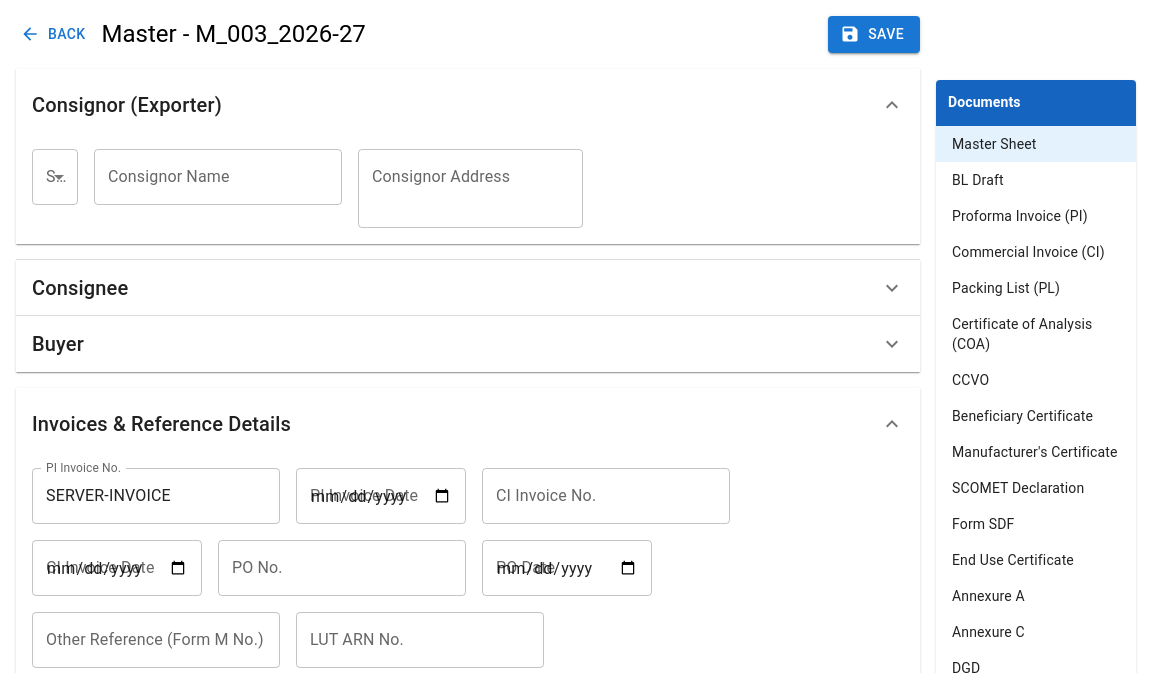
discarding root conflict removes stale restore action and draft
The image size is (1152, 673).
Step 1. Replace the text in the field showing "SERVER-INVOICE" with "LOCAL-INVOICE" → (156, 496), box [32,468,280,524]
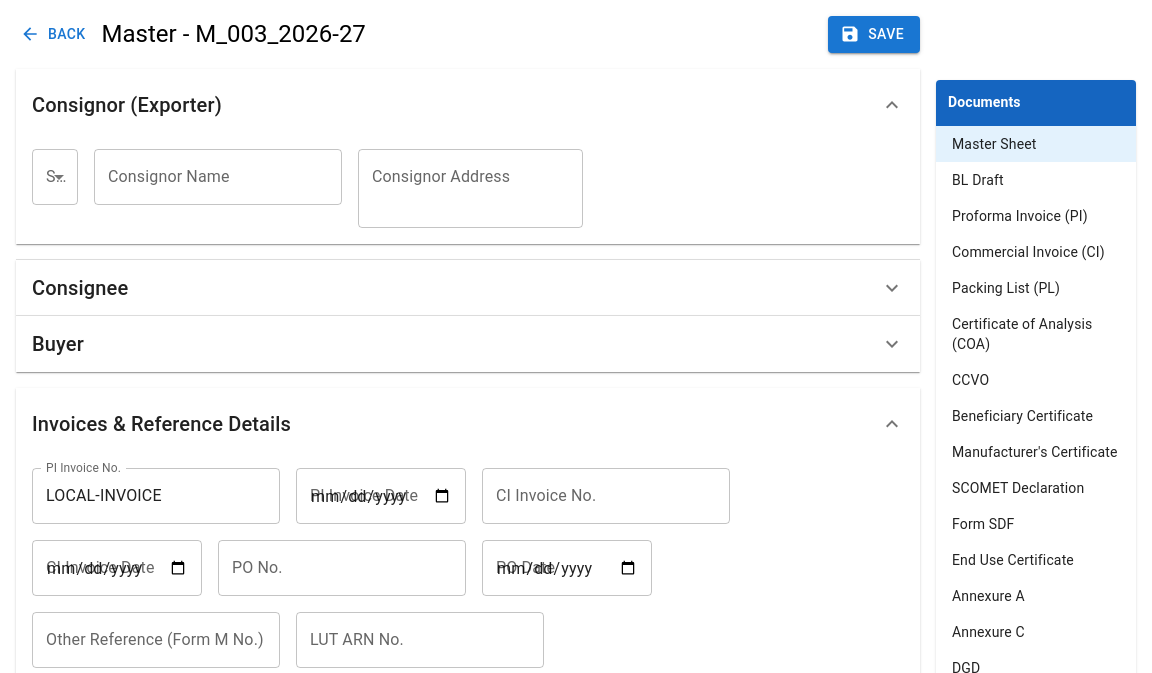
Step 2. Click the button "Save" → (874, 34), box [828,16,920,52]
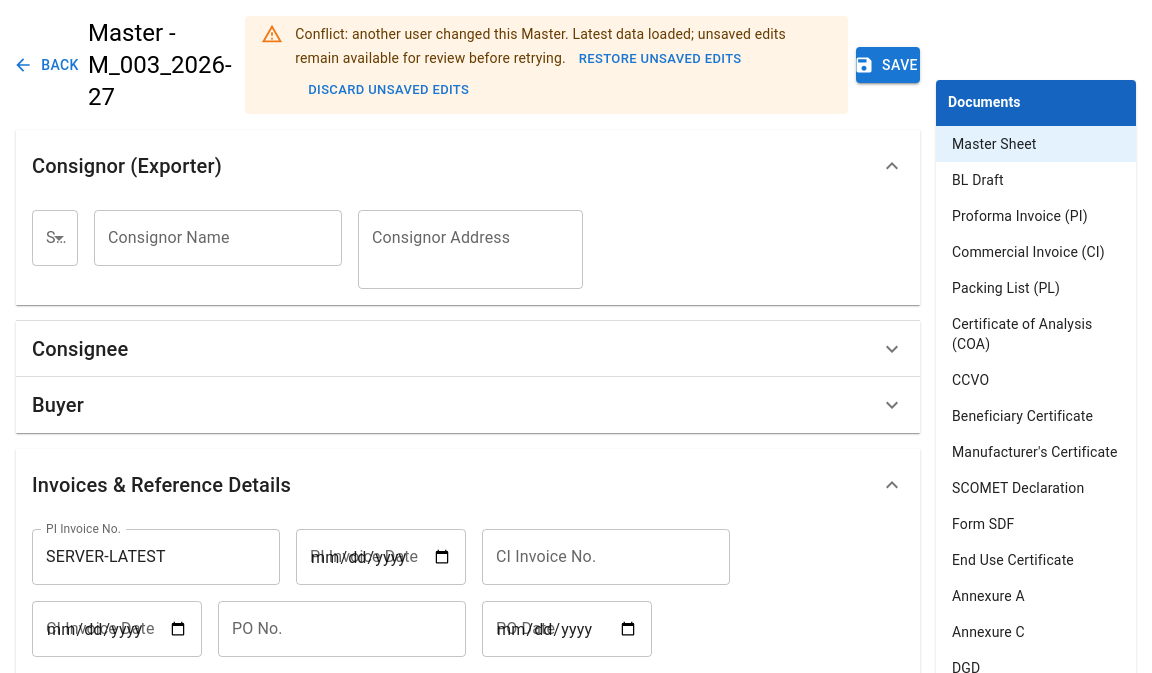
Step 3. Click the button "Discard unsaved edits" → (389, 90), box [303,75,474,106]
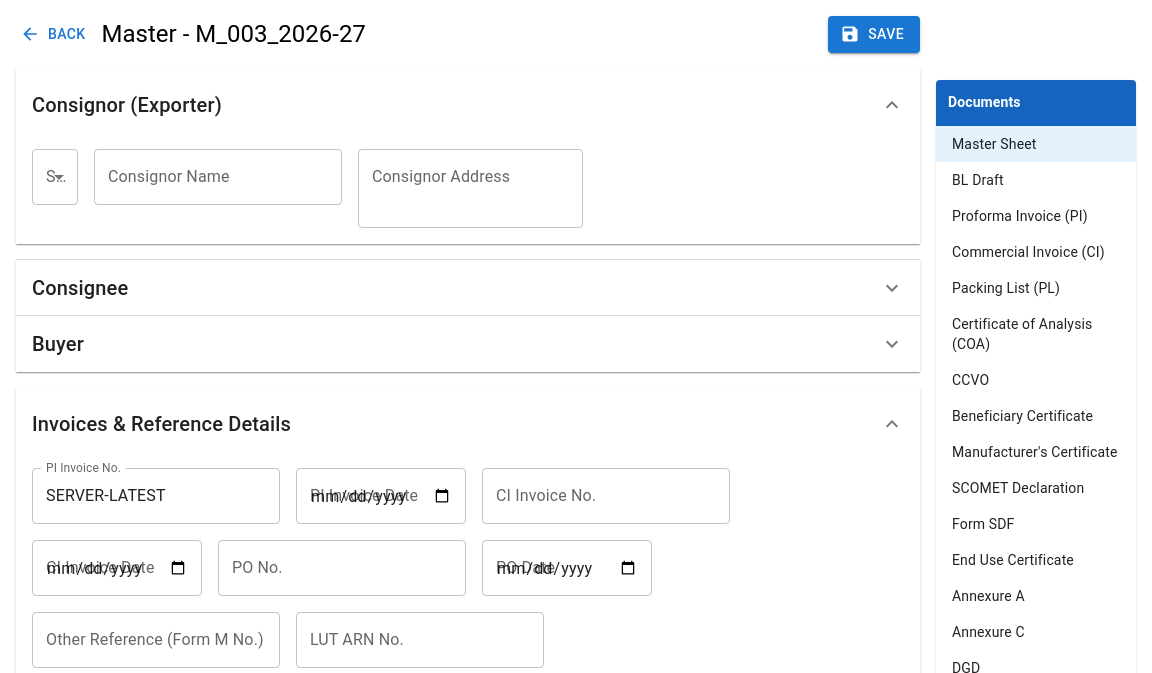
Expected: the button "Restore unsaved edits" is gone
Expected: the button "Discard unsaved edits" is gone
Expected: the message is gone
